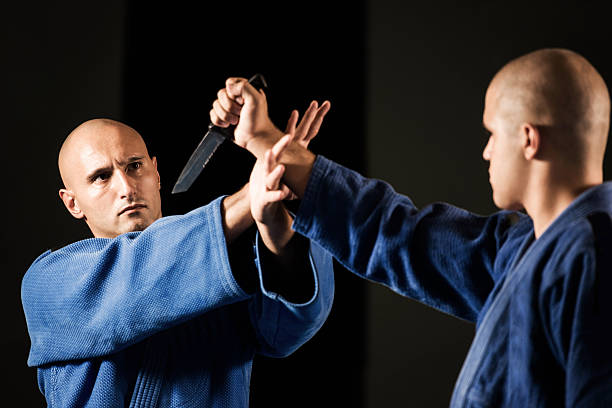knife: (172, 72, 267, 195)
